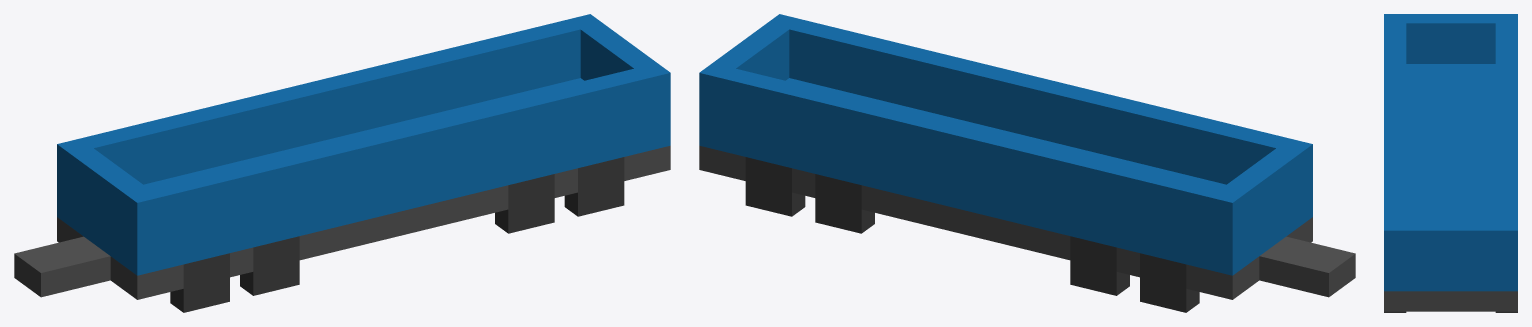
The model's file is train-trailer-v8-blue.gltf.
3 views of the same model, side by side, from view 1: azimuth 30°, elevation 25°; view 2: azimuth 150°, elevation 25°; view 3: azimuth 270°, elevation 25° (orthographic). The views are drawn at different scales.
Parts seen in each view (by area): view 1: model, wheels; view 2: model, wheels; view 3: model.
Boxes of the visible parts, box(x1,y1,x2,y2) form: model: box(14, 14, 670, 299); wheels: box(170, 157, 624, 312); model: box(699, 14, 1355, 299); wheels: box(745, 157, 1199, 312); model: box(1384, 14, 1517, 311).
Bounding box in the file's own units: 2.6 × 0.5 × 0.6.
2 materials, 2 textured.
